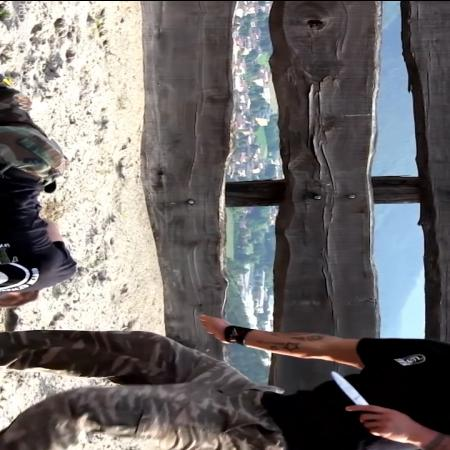long weapon: (328, 366, 396, 436)
